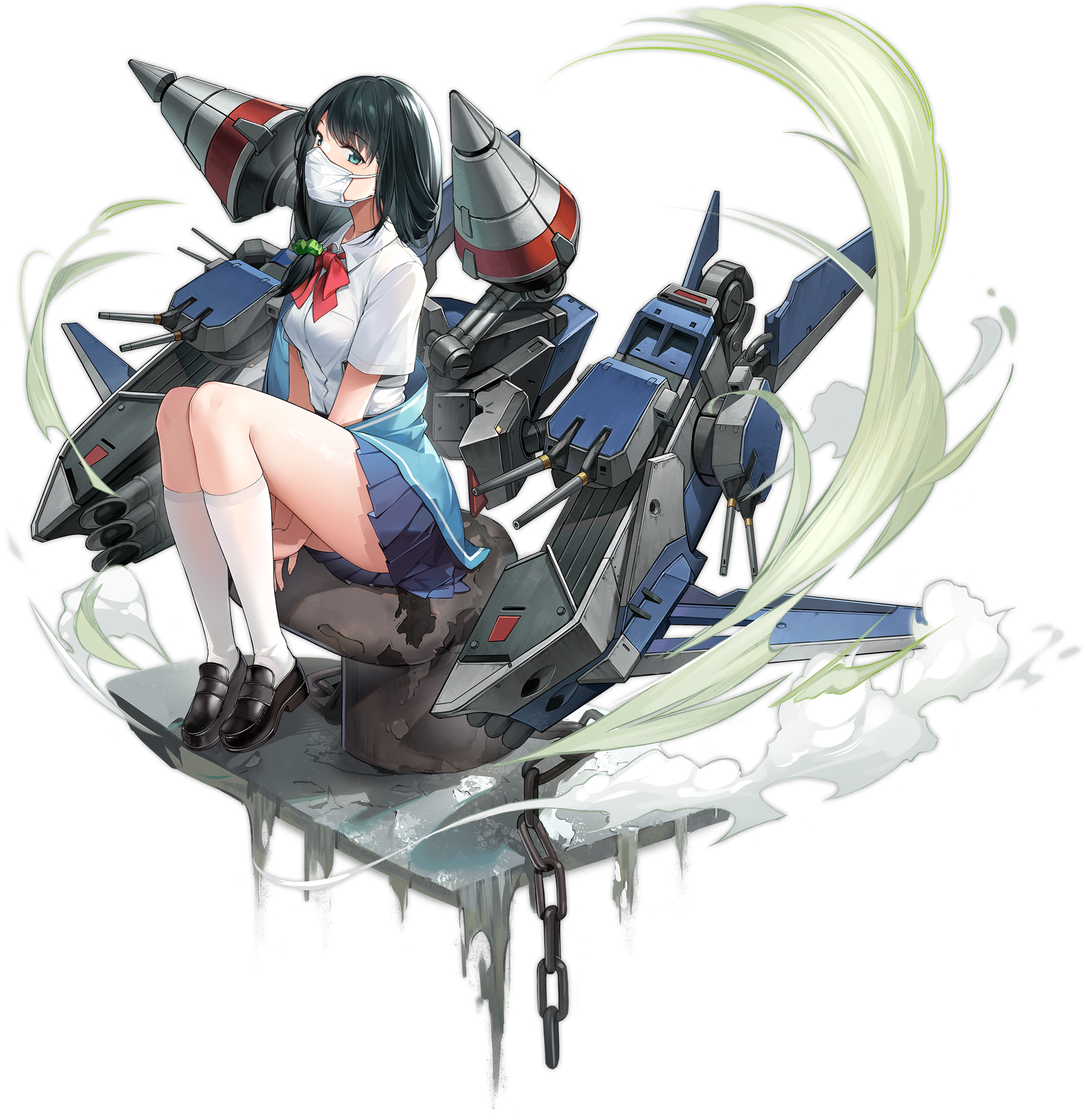person: (16, 39, 549, 804)
